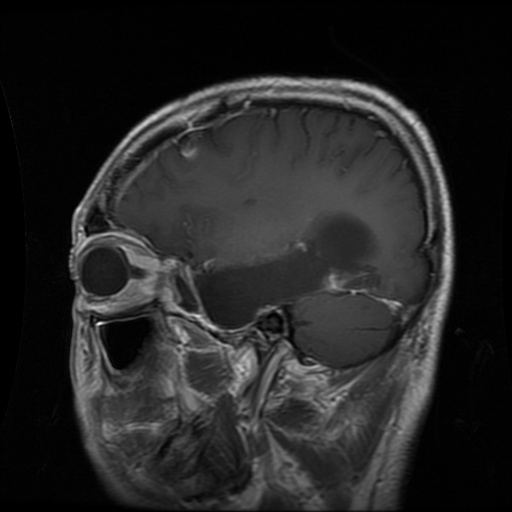glioma: (192, 212, 384, 329)
